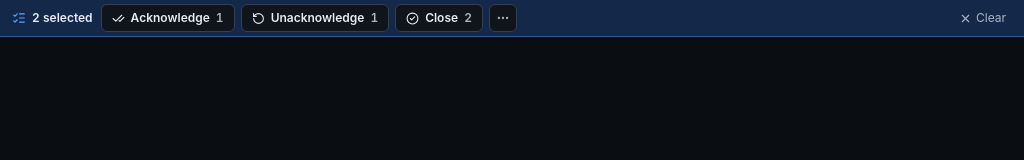
Scenario: BulkActionBar › shows progress while an action runs and blocks a second one
Click the button "Acknowledge 1".
click(168, 18)  # box [101,4,235,32]
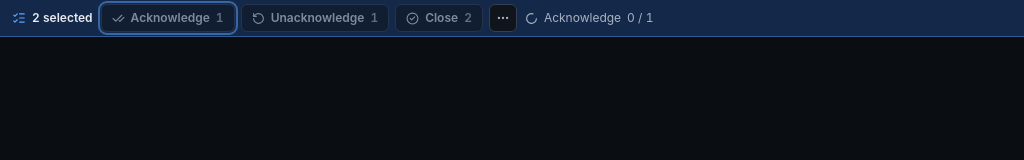
Now the text "0 / 1" is shown, box [627,10,653,26]
